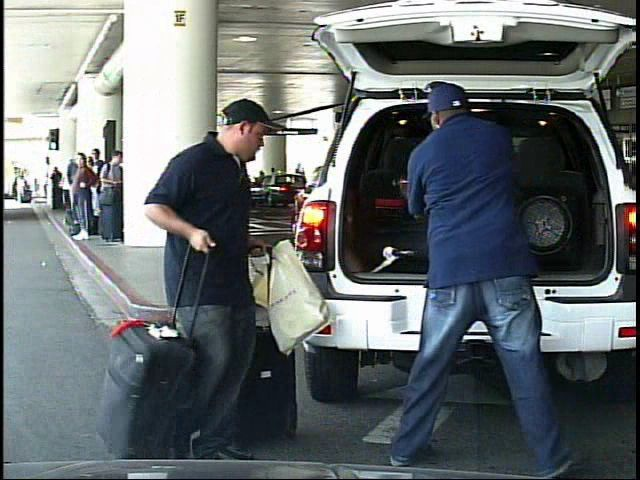person: (352, 76, 585, 478), (126, 100, 274, 460), (294, 162, 306, 197), (16, 172, 27, 203)
